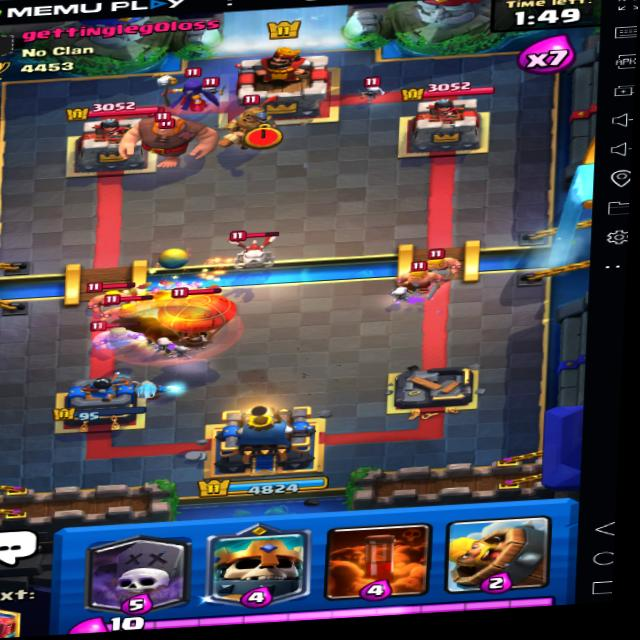balloon: (161, 282, 239, 349)
barbarian: (97, 295, 157, 326), (404, 249, 455, 284), (95, 317, 146, 349), (88, 280, 140, 308), (398, 229, 451, 256)
giant: (116, 110, 214, 170)
prince: (222, 91, 279, 152)
skeleton: (197, 79, 230, 100), (361, 81, 387, 104)
skeleton-dragon: (223, 234, 290, 272)
witch: (160, 72, 219, 118)
